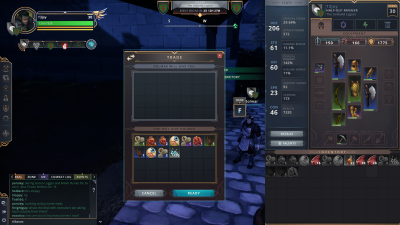ethereal dust: (169, 147, 181, 158)
